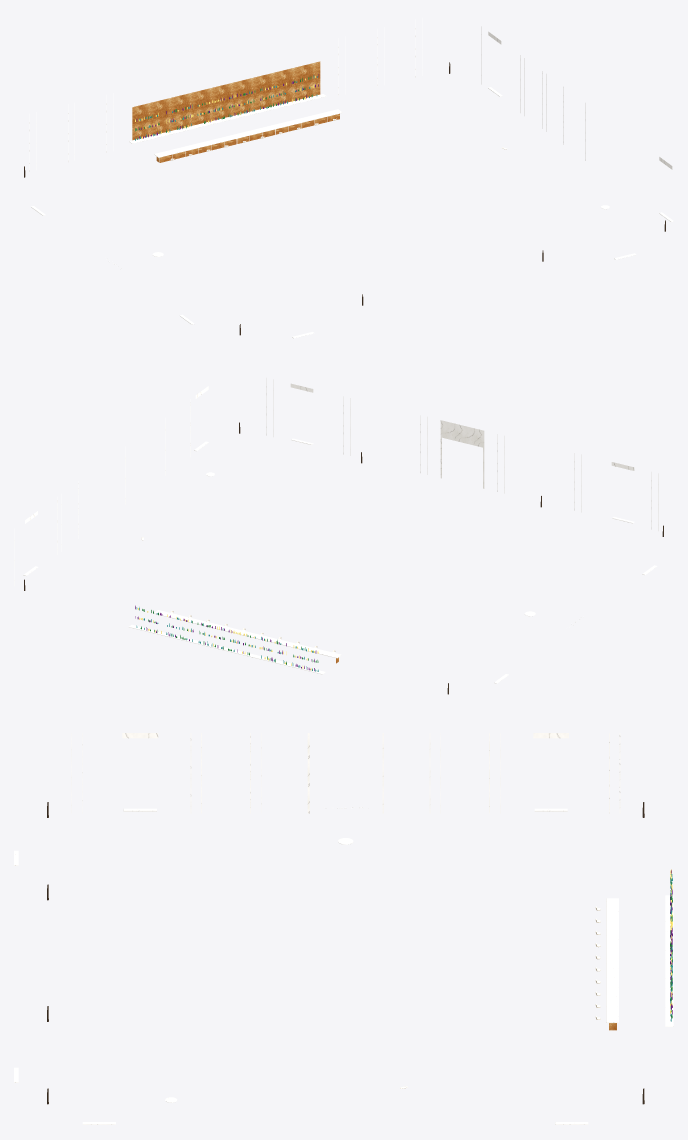
Rendered from lb5_lounge_p3.glb.
3 views of the same model, one above another, from view 1: azimuth 30°, elevation 25°; view 2: azimuth 150°, elevation 25°; view 3: azimuth 270°, elevation 25° (orthographic). The views are drawn at different scales.
Parts seen in each view (by area): view 1: lb5_lounge_p3; view 2: lb5_lounge_p3; view 3: lb5_lounge_p3.
Boxes of the visible parts, x1,y1,x2,y2 form: lb5_lounge_p3: [24, 18, 673, 338]; lb5_lounge_p3: [14, 378, 663, 694]; lb5_lounge_p3: [14, 733, 673, 1124].
Size of the model in its own units: 72.6 by 9.88 by 64.26.
9 materials, 3 textured.
